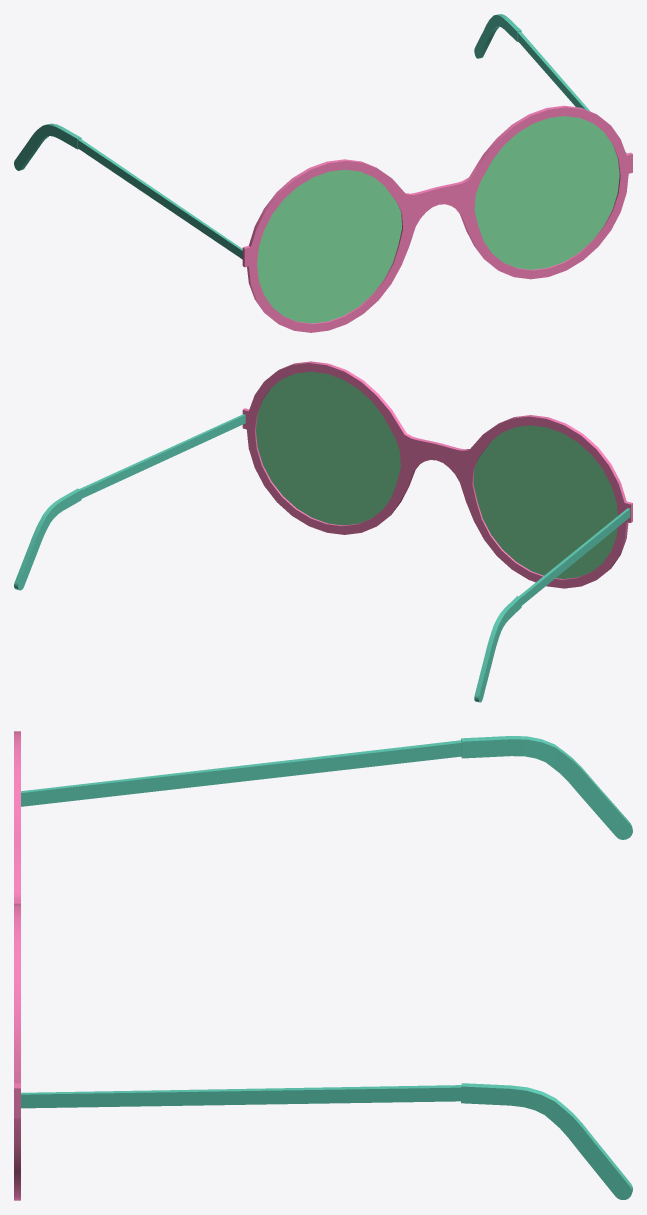
Rendered from Glasses.glb.
The picture shows the model from 3 angles, top to bottom: view 1: azimuth 30°, elevation 25°; view 2: azimuth 150°, elevation 25°; view 3: azimuth 270°, elevation 25°; orthographic projection. The views are drawn at different scales.
Parts seen in each view (by area): view 1: glasses9.001; view 2: glasses9.001; view 3: glasses9.001.
Boxes of the visible parts, bbox=[...] form: glasses9.001: bbox=[14, 14, 632, 332]; glasses9.001: bbox=[14, 361, 632, 702]; glasses9.001: bbox=[14, 731, 632, 1200].
Bounding box in the file's own units: 2.15 × 0.7403 × 1.54.
